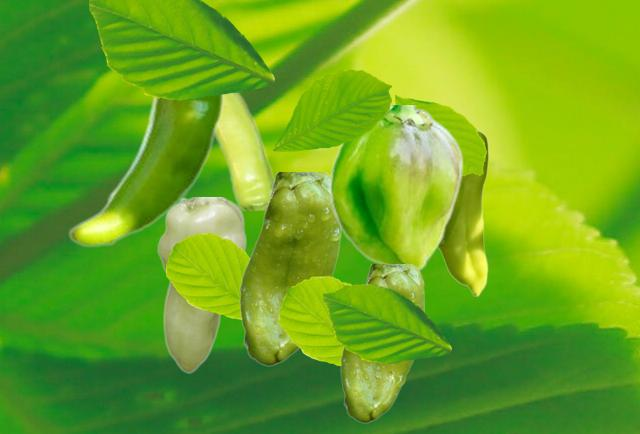green_chili: (67, 95, 224, 247), (329, 105, 463, 272), (239, 172, 340, 365), (156, 197, 245, 372), (340, 264, 423, 422), (438, 130, 487, 295), (215, 93, 274, 209)
